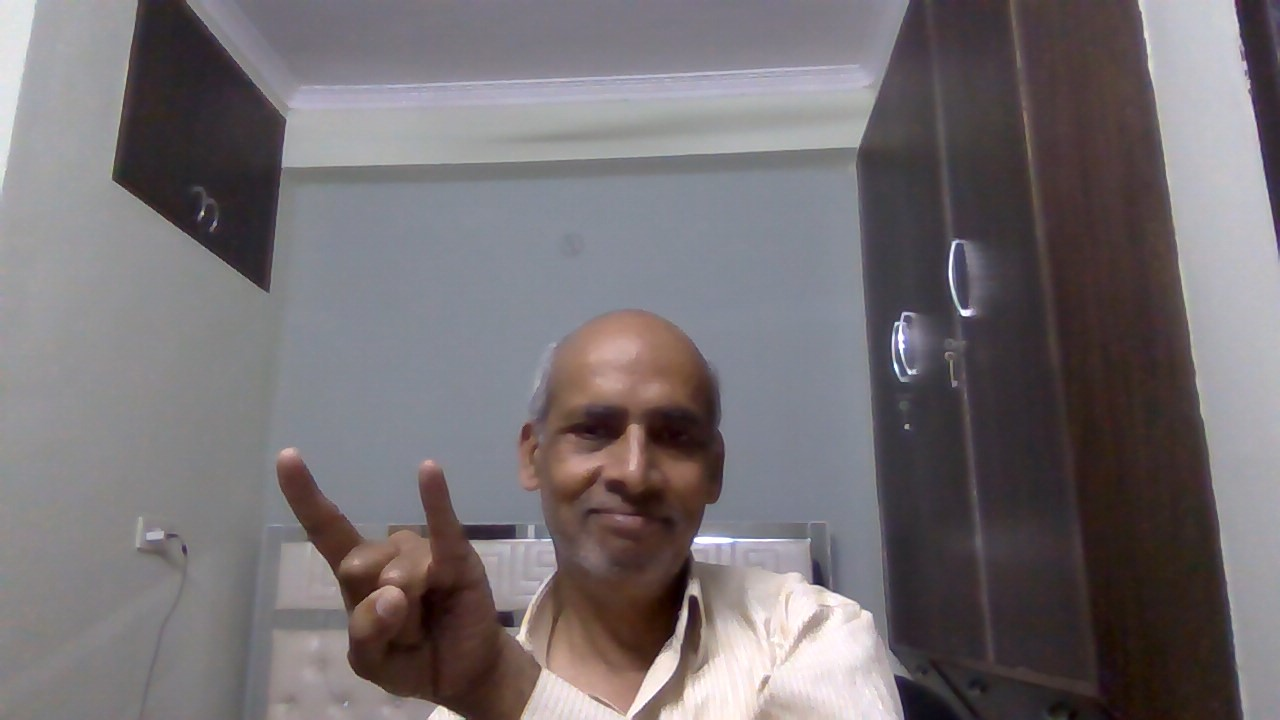Select All: (264, 430, 504, 709)
